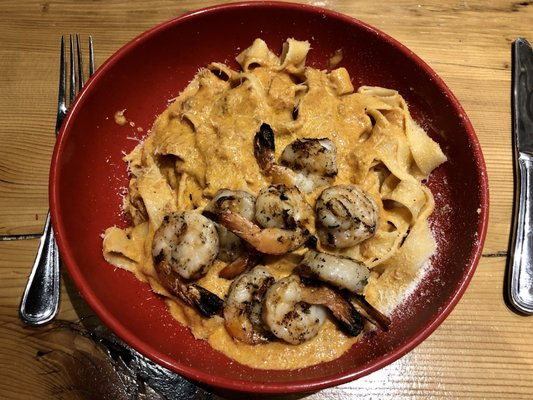burger: (17, 33, 95, 323), (503, 33, 533, 317)
sushi: (20, 2, 516, 397)
